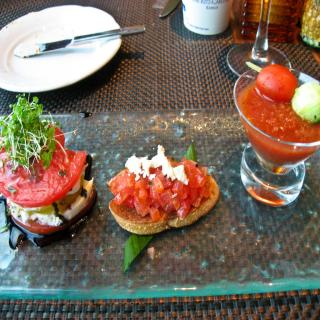tomato: (255, 61, 298, 105)
